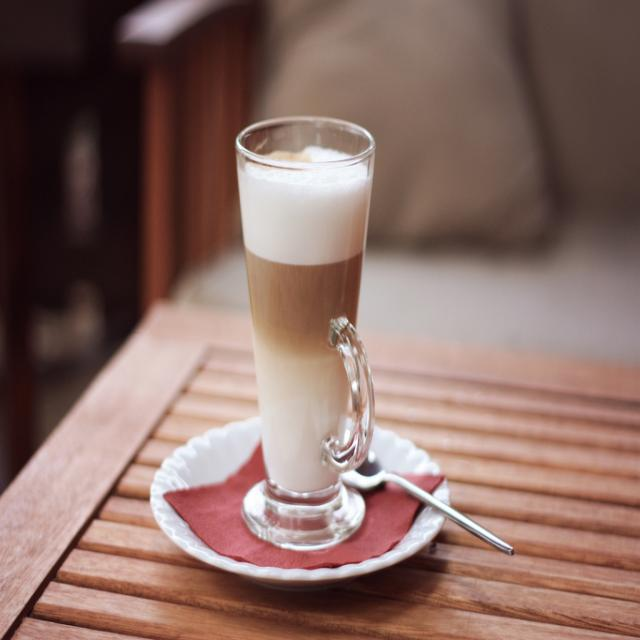Coffee: (238, 117, 378, 538), (238, 139, 370, 193)
